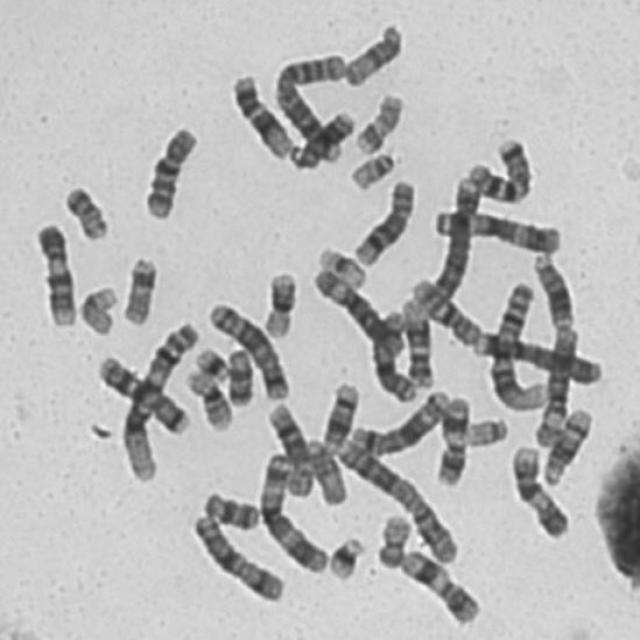A1: (114, 314, 202, 485), (483, 276, 549, 412)
A2: (330, 434, 462, 566), (267, 47, 350, 166)
A3: (252, 445, 331, 575), (427, 202, 564, 255)
B4: (470, 325, 605, 387), (423, 171, 482, 299)
B5: (200, 295, 290, 402), (342, 382, 452, 456)
C10: (137, 119, 200, 222), (406, 271, 482, 347)
C11: (392, 542, 482, 628), (429, 388, 472, 488)
C12: (225, 66, 291, 160), (395, 290, 436, 390)
C6: (305, 260, 408, 357), (528, 319, 581, 447)
C7: (90, 348, 191, 436), (460, 129, 534, 204)
C8: (348, 172, 418, 268), (260, 396, 316, 498)
C9: (505, 438, 571, 540), (28, 216, 78, 330)
D13: (282, 101, 358, 170), (527, 246, 577, 330)
D14: (536, 401, 596, 487), (315, 375, 361, 453)
D15: (337, 15, 406, 88), (300, 431, 350, 507)
E16: (178, 363, 236, 432), (255, 264, 300, 339)
E17: (348, 87, 406, 155), (115, 249, 160, 327)
E18: (196, 485, 262, 531), (220, 341, 256, 408)
F19: (311, 240, 370, 290), (72, 279, 120, 337)
F20: (57, 178, 111, 242), (369, 506, 414, 570)
G21: (321, 529, 367, 582), (189, 340, 232, 384)
G22: (343, 144, 396, 192), (459, 412, 511, 448)
X: (184, 507, 287, 604), (365, 303, 421, 404)
